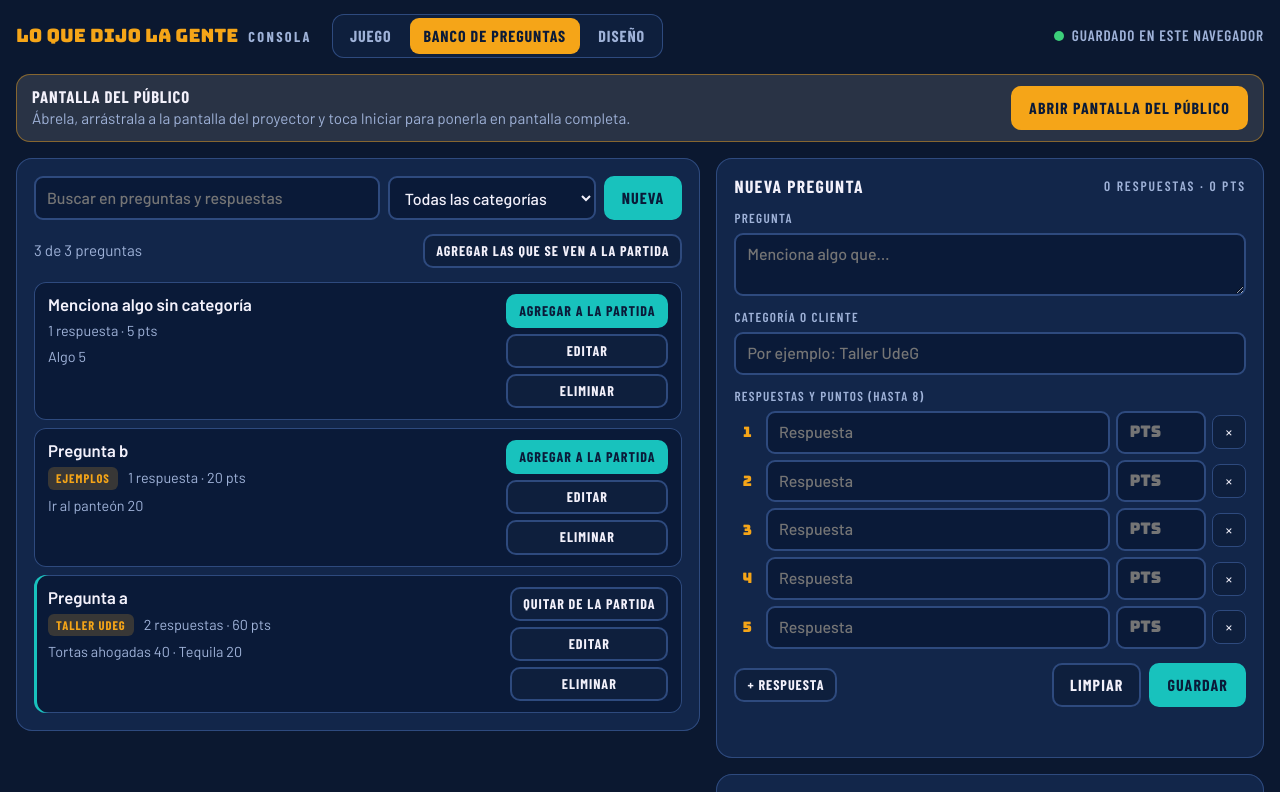
Test case: Bank · list, categories and search › filters by category or no category and searches ignoring accents and case
Select "Sin categoría" in the dropdown named "Filtrar por categoría". click: (492, 198)
box: [388,176,596,220]
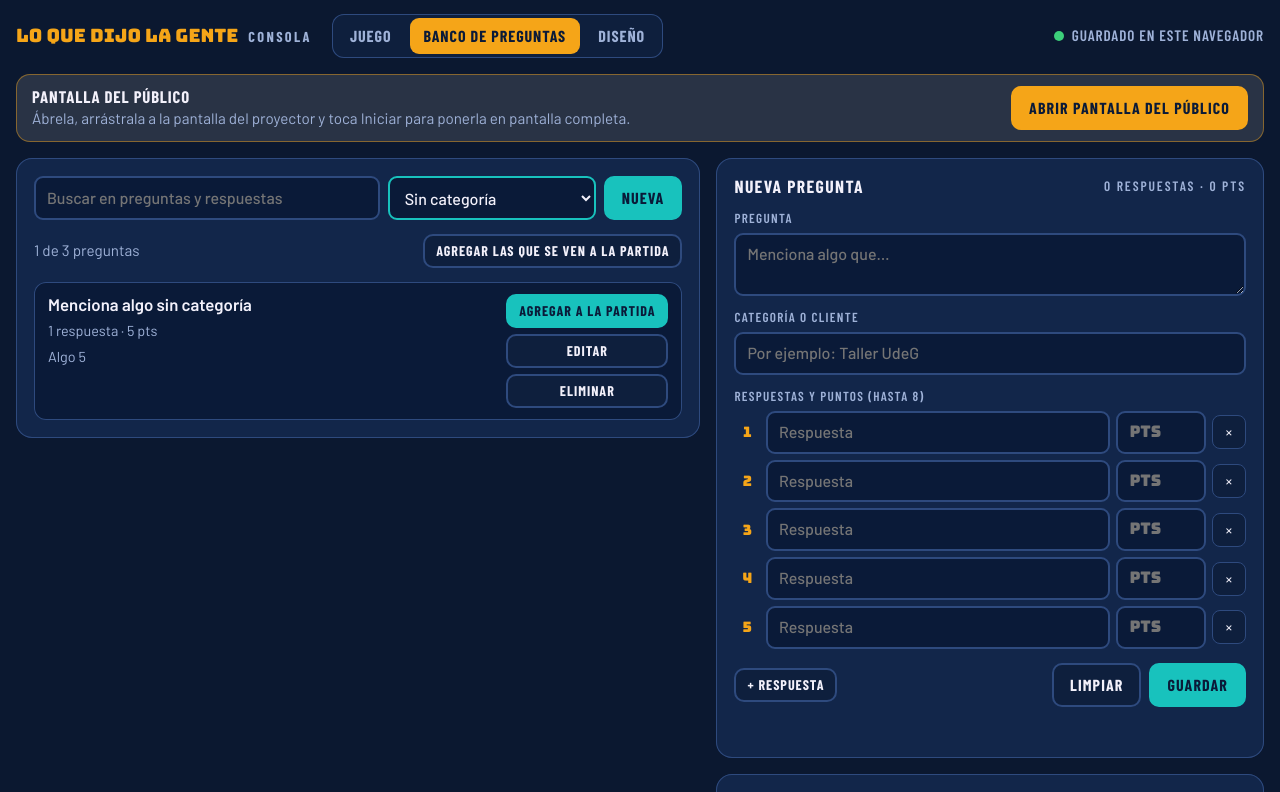
Expected: the number of list items is 1, [34,282,682,420]
Expected: the text "1 de 3 preguntas" is shown, [34,240,140,262]
Select "Todas las categorías" in the dropdown named "Filtrar por categoría". click: (492, 198)
box: [388,176,596,220]
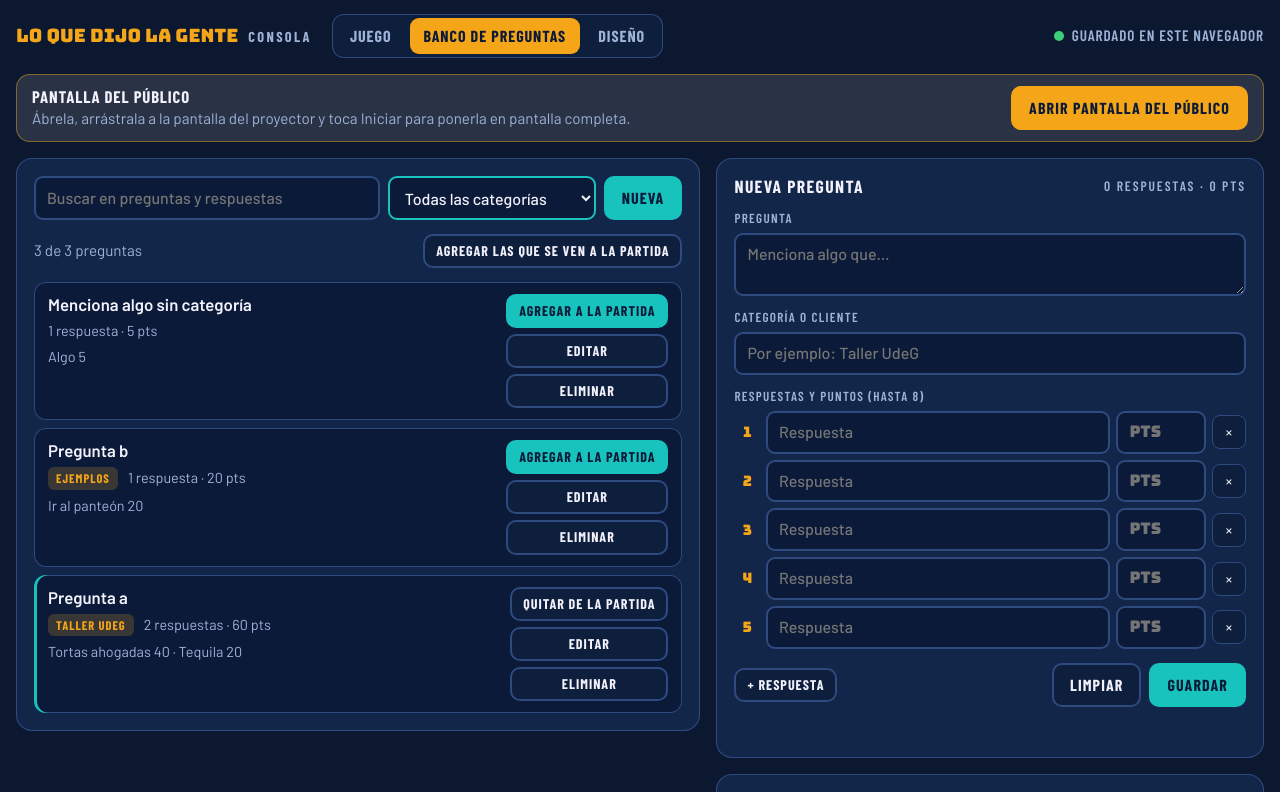
Type "PANTEON" into the search field labelled "Buscar". click: (207, 198)
box: [34,176,380,220]
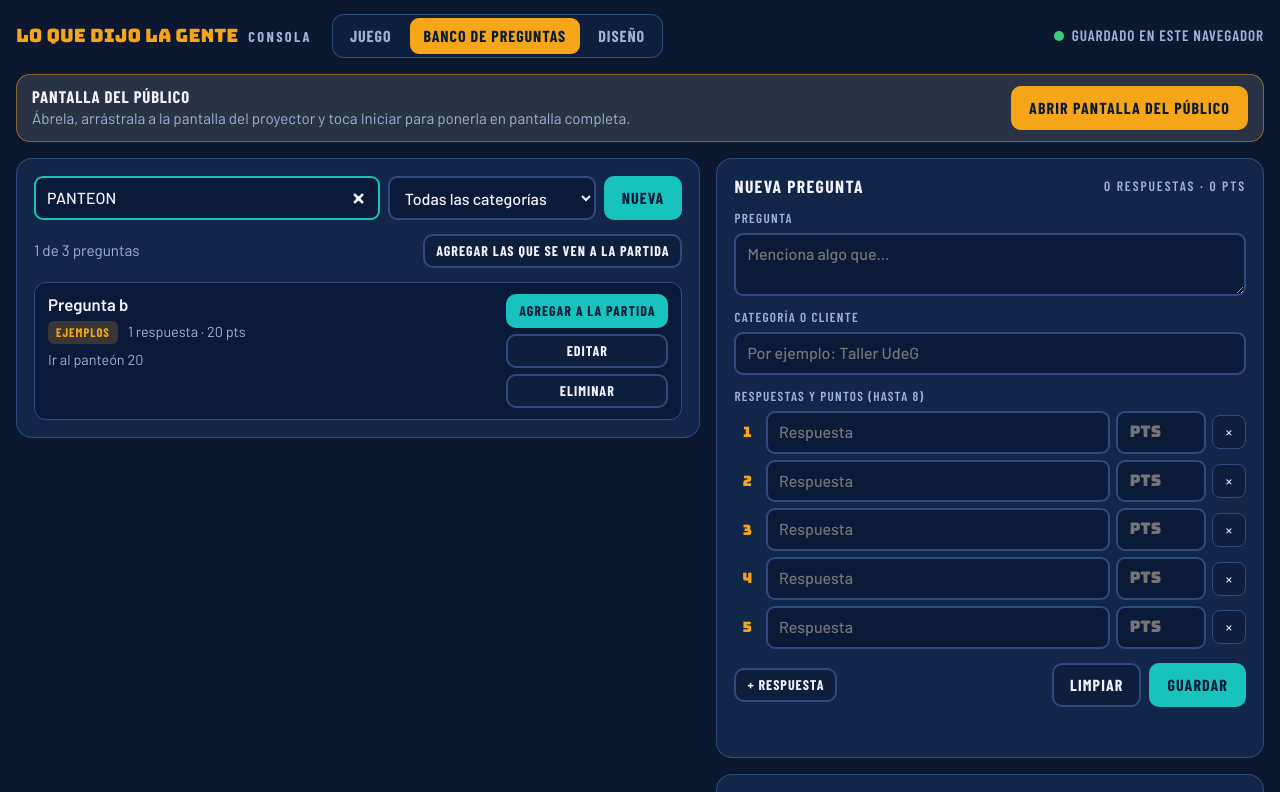
Expected: the list item shows "Pregunta b", [48,294,128,314]
Expected: the number of list items is 1, [34,282,682,420]
Type "zzz" into the search field named "Buscar". click: (207, 198)
box: [34,176,380,220]
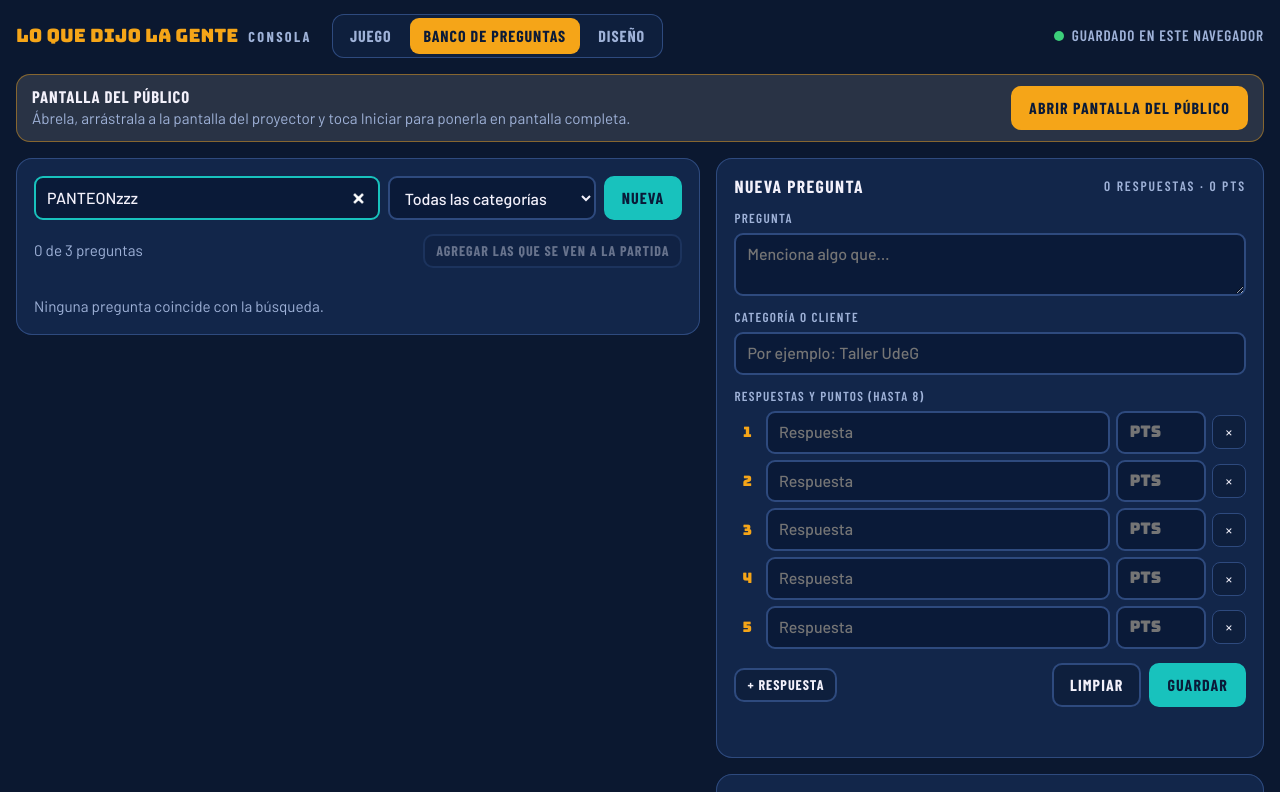
Expected: the text "Ninguna pregunta coincide con la búsqueda." is shown, [34,297,324,315]
